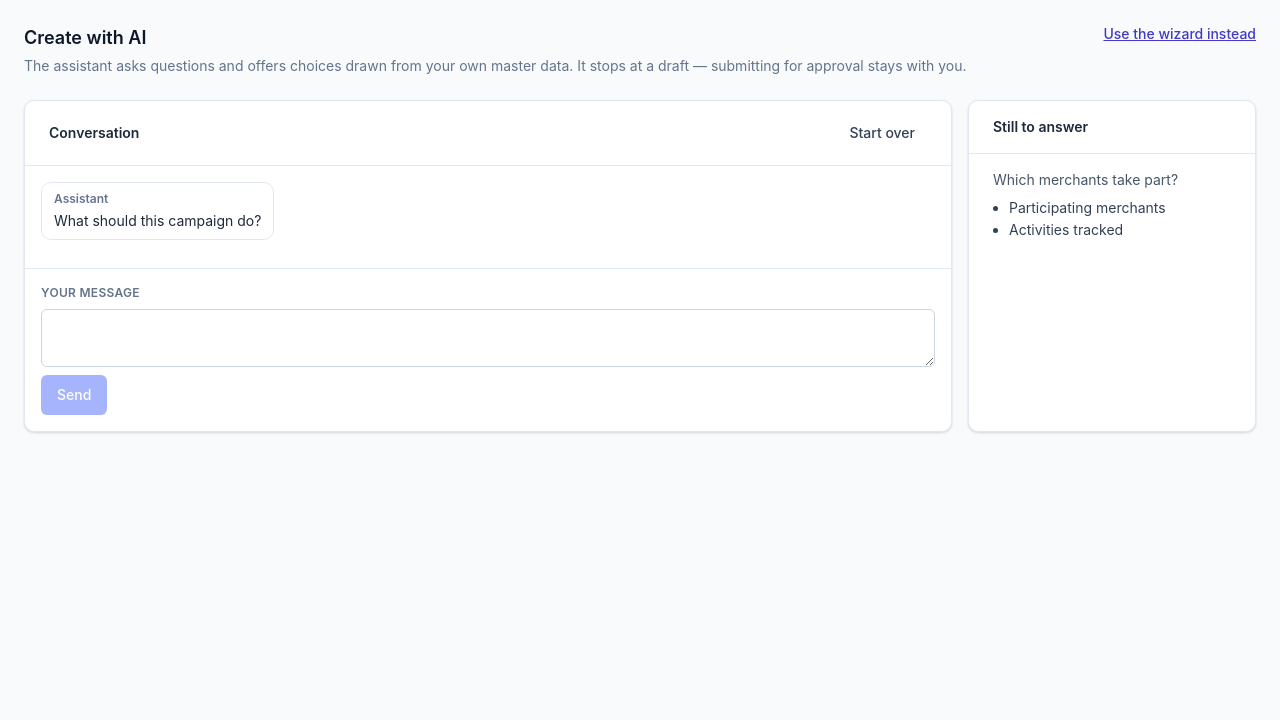
TC-1 — a full conversation ending in a draft › TC-3 — rule chips show the version number the maker is choosing
Expected: the text "What should this campaign do?" is shown, x1=54 y1=211 x2=261 y2=231
Type "Use a spend rule" into the text box labelled "Your message" at {"x": 488, "y": 338}, box x1=41 y1=309 x2=935 y2=367
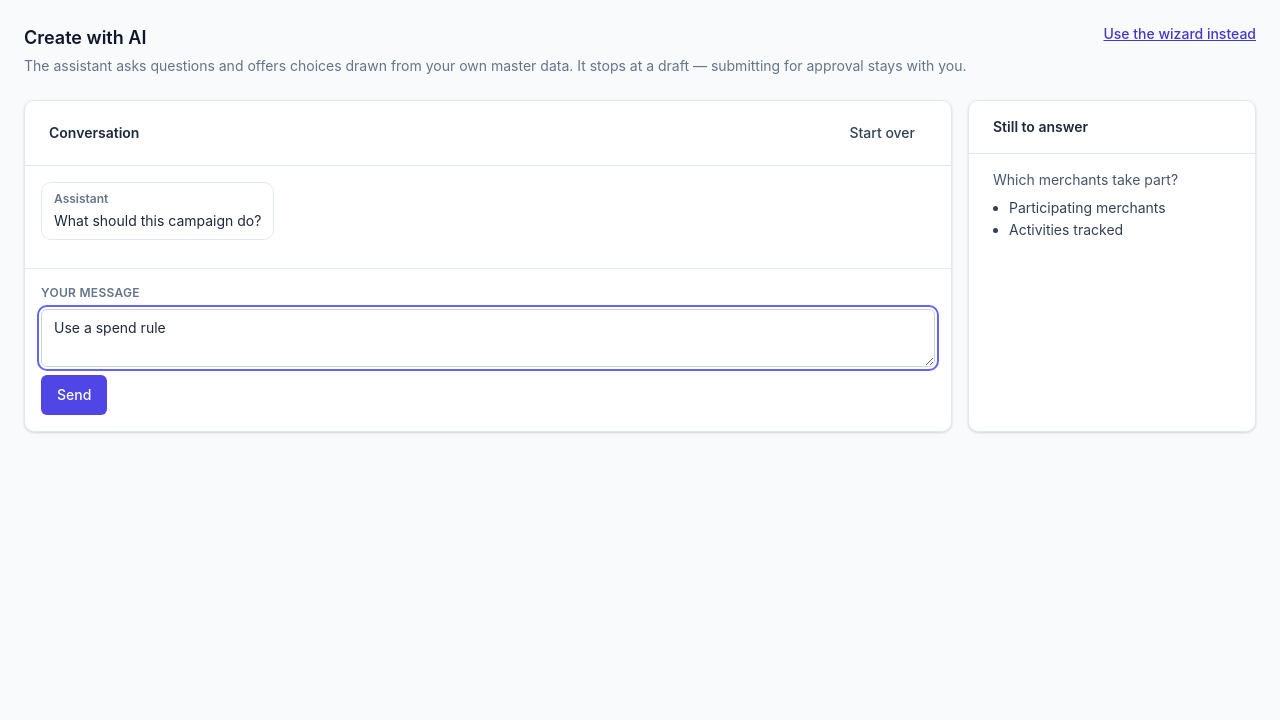
Click the button "Send" at {"x": 74, "y": 395}, box x1=41 y1=375 x2=107 y2=415
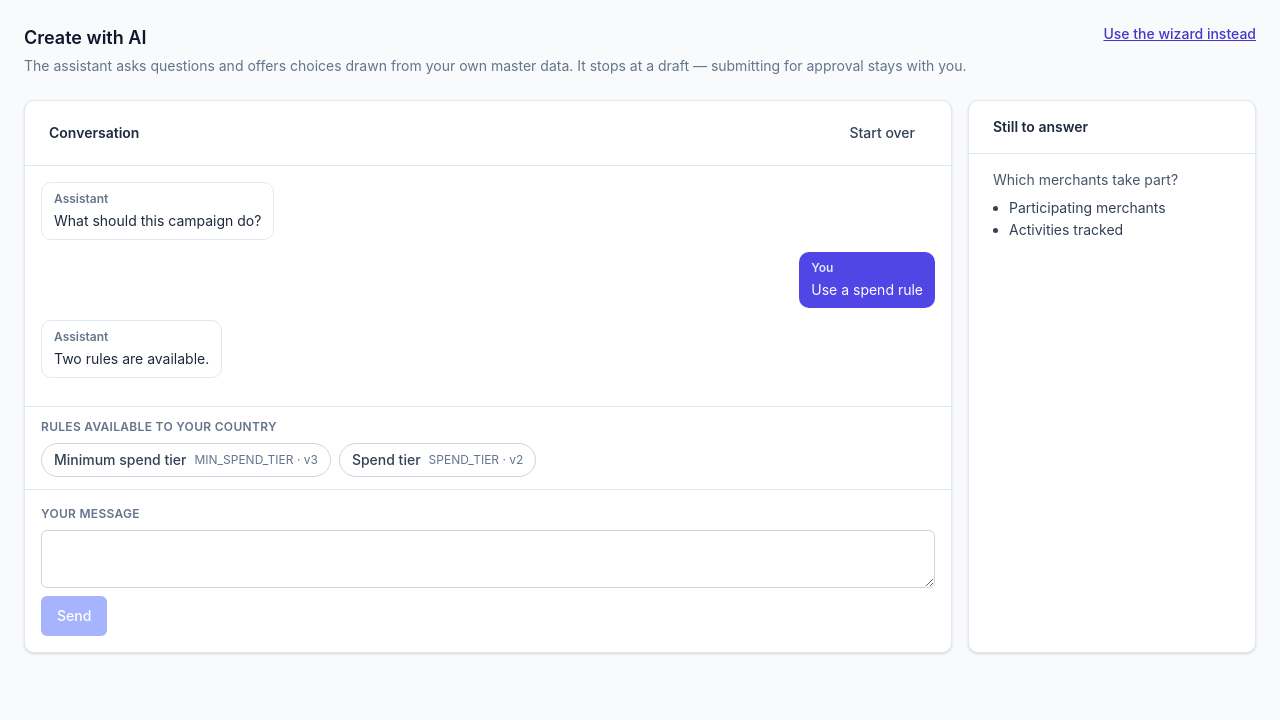
Now the text "MIN_SPEND_TIER · v3" is shown, box x1=194 y1=452 x2=318 y2=468
Now the text "SPEND_TIER · v2" is shown, box x1=429 y1=452 x2=523 y2=468
